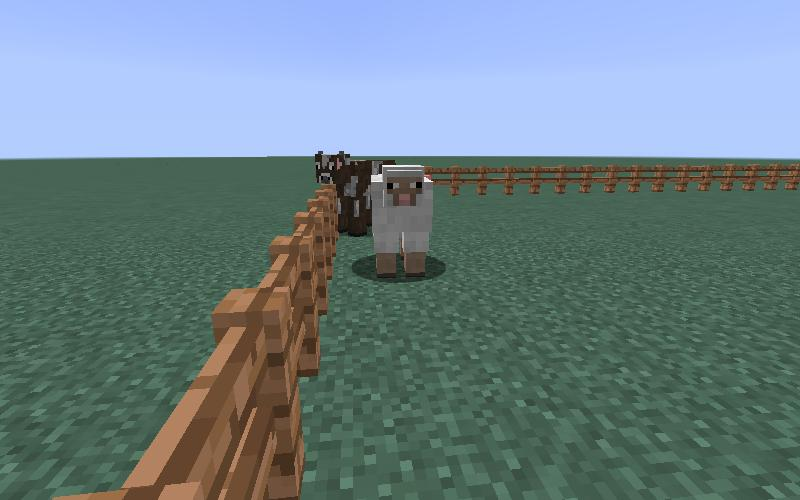cow: (315, 152, 371, 237)
sheep: (366, 163, 436, 282)
